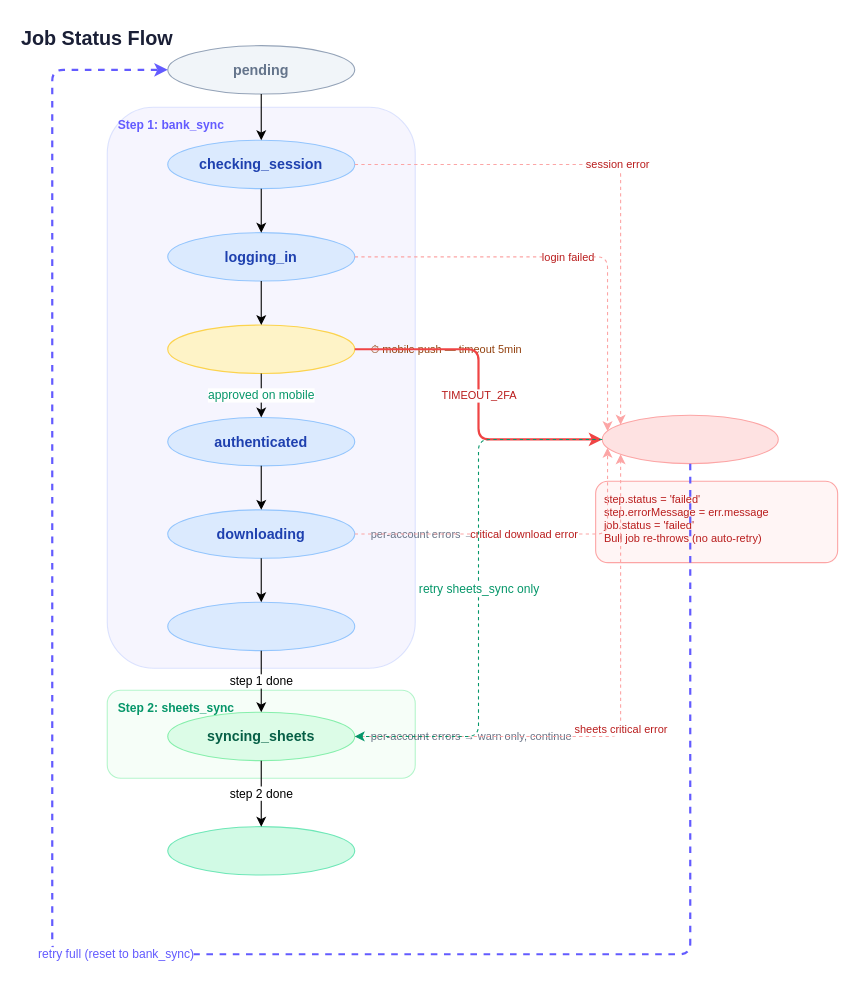
Image size: 857x982. Some labels were removed from this diagram. The box of each missing label's shape, as (x1, y1, x2, y2) in pixels:
completed ✓: (167, 826, 355, 875)
failed ✕: (601, 414, 778, 464)
storing: (167, 601, 355, 651)
waiting_2fa: (167, 324, 355, 373)
